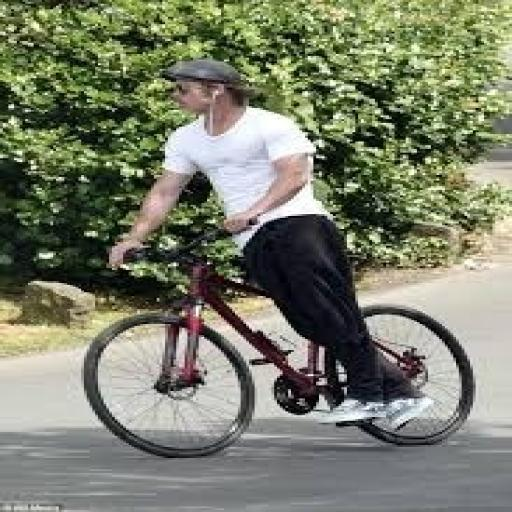cycling: (104, 56, 439, 434)
